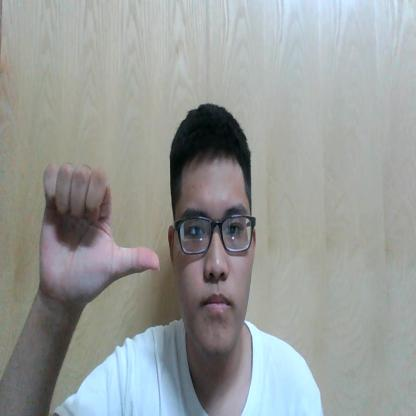left: (38, 157, 162, 303)
